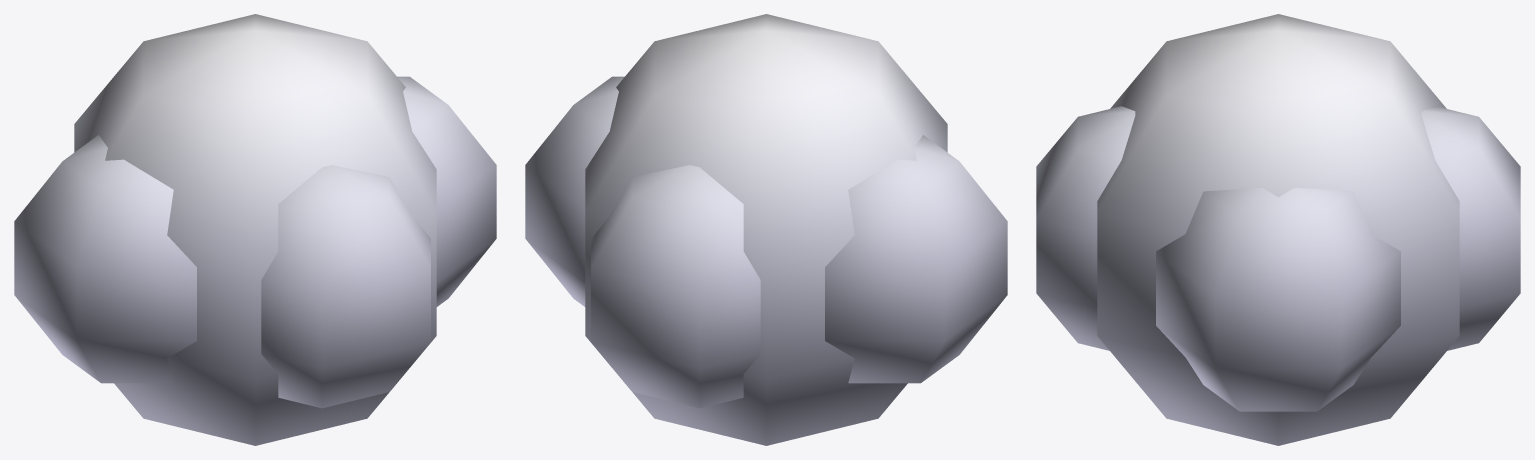
Rendered from Dust.fbx.
3 views of the same model, side by side, from view 1: azimuth 30°, elevation 25°; view 2: azimuth 150°, elevation 25°; view 3: azimuth 270°, elevation 25° (orthographic).
Parts seen in each view (by area): view 1: cloud; view 2: cloud; view 3: cloud.
Boxes of the visible parts, x1=… form: cloud: x1=14, y1=14, x2=496, y2=445; cloud: x1=525, y1=14, x2=1007, y2=445; cloud: x1=1036, y1=14, x2=1520, y2=445.
Size of the model in its own units: 36.31 by 33 by 36.31.
